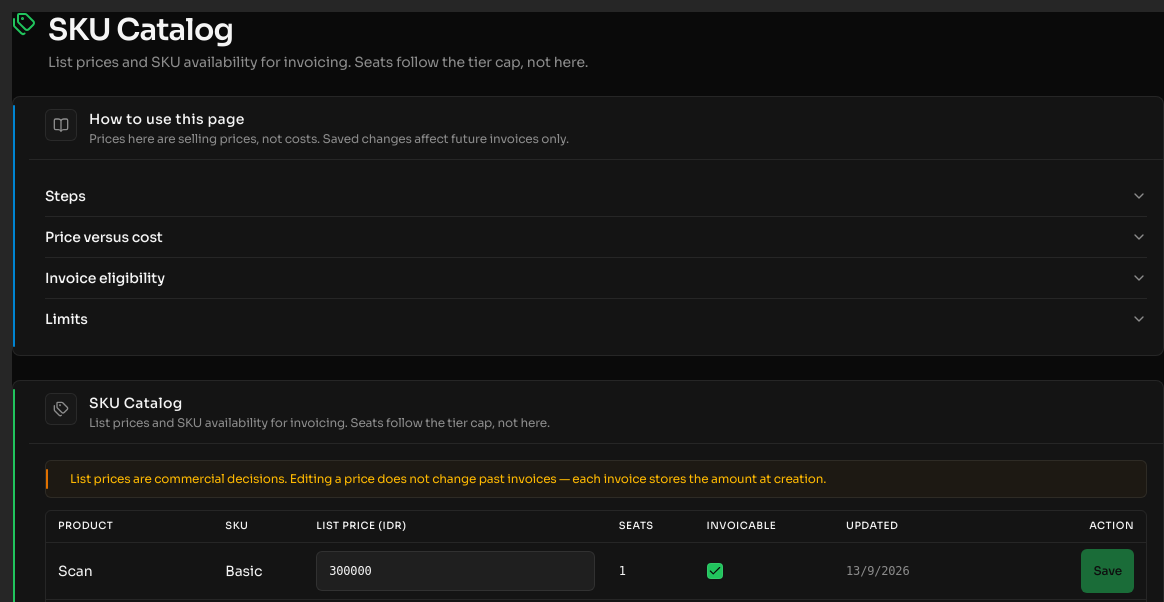
Test: AdminSkuCatalog › renders a collapsible usage guide
Check: the element with test id "sku-catalog-guide" is shown, box [12,96,1163,356]
Check: the text "Edit the list price for a row — this is the selling price, not the cost." is not shown
Click the button "Steps".
click(65, 196)  # box [45,176,1147,216]
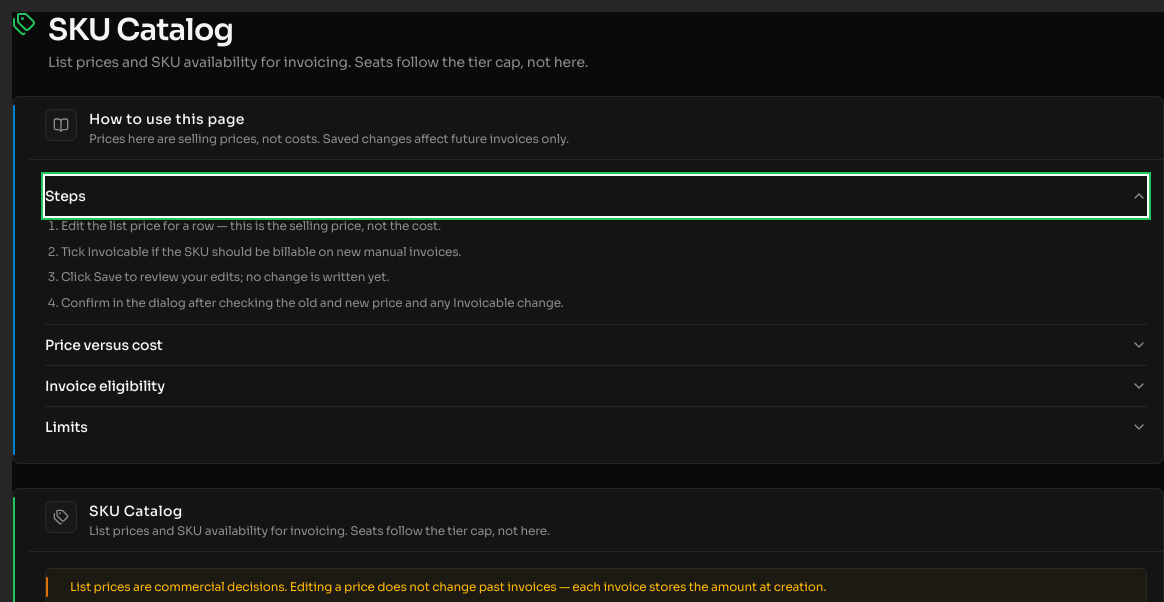
Check: the list item "Edit the list price for a row — this is the selling price, not the cost." is shown, box [61,218,441,233]
Click the button "Limits".
click(66, 427)  # box [45,407,1147,447]
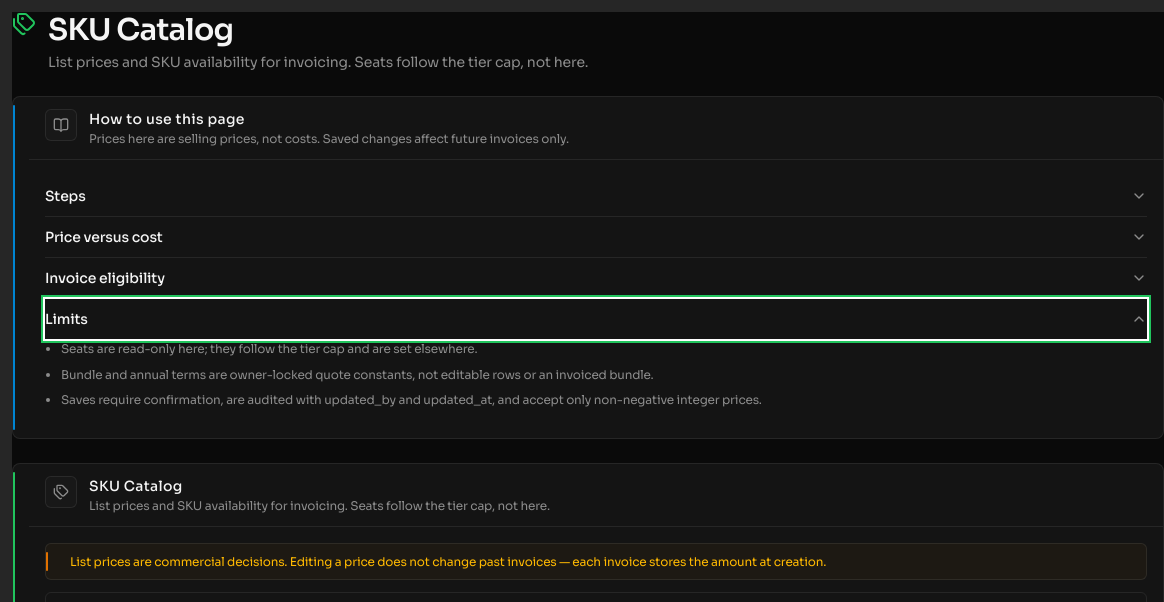
Check: the list item "Seats are read-only here; they follow the tier cap and are set elsewhere." is shown, box [61,341,477,356]
